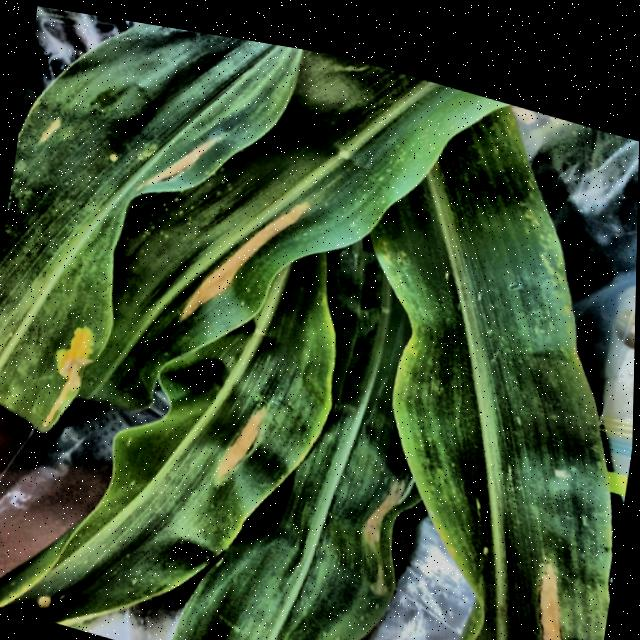blight: (402, 363, 628, 640)
